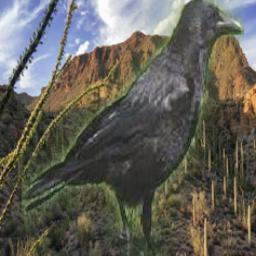Crow: (22, 0, 244, 256)
